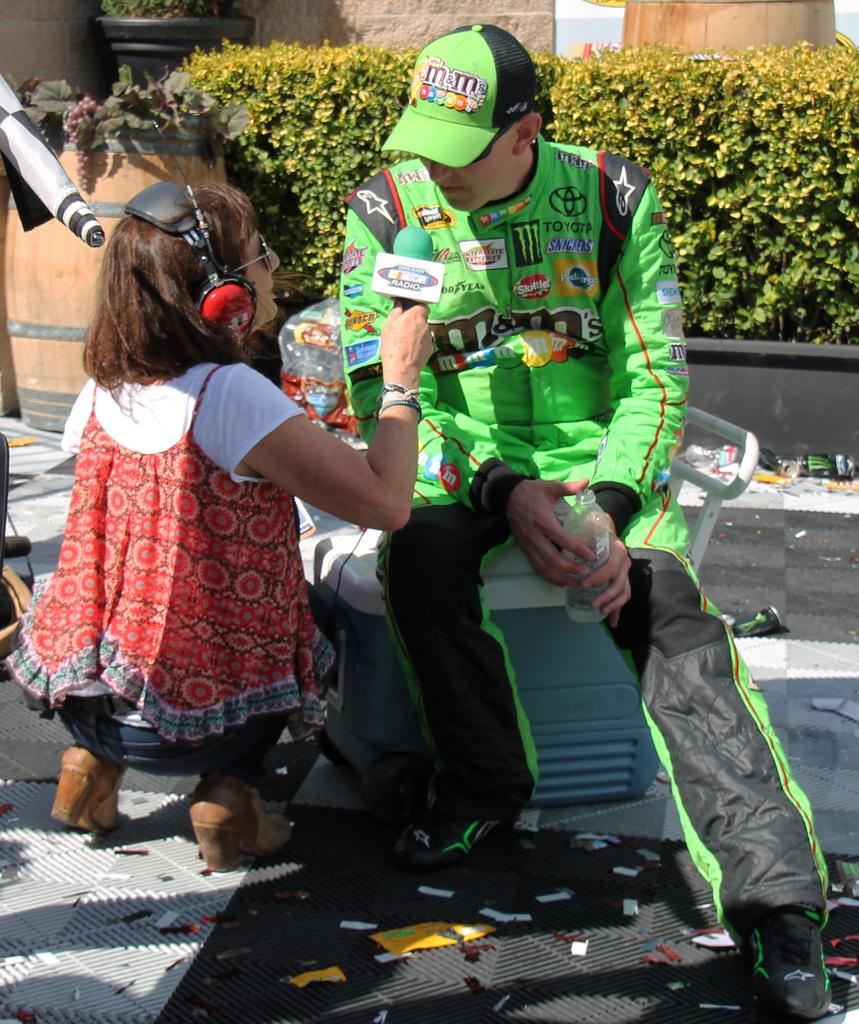Hat: (380, 20, 536, 170)
